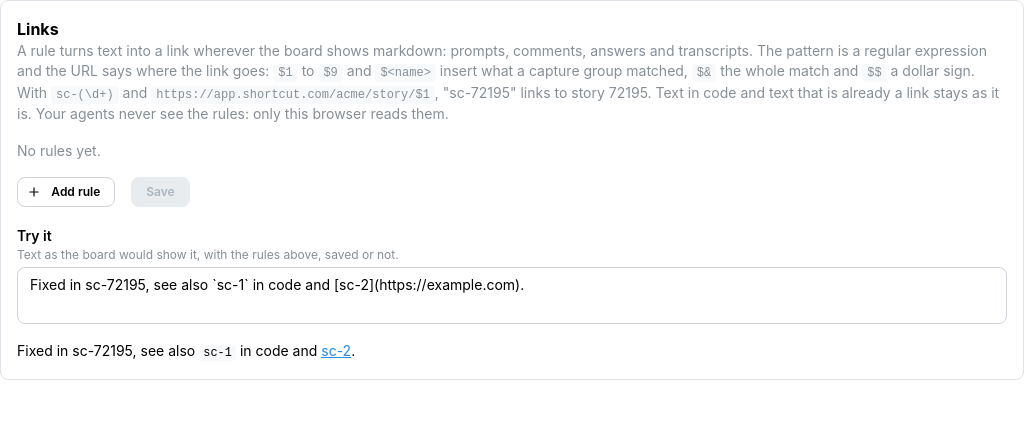
Test case: LinksSettings › says what is wrong with a pattern or URL and does not save it
Click the button "Add rule" at (66, 192), box [17,177,115,207]
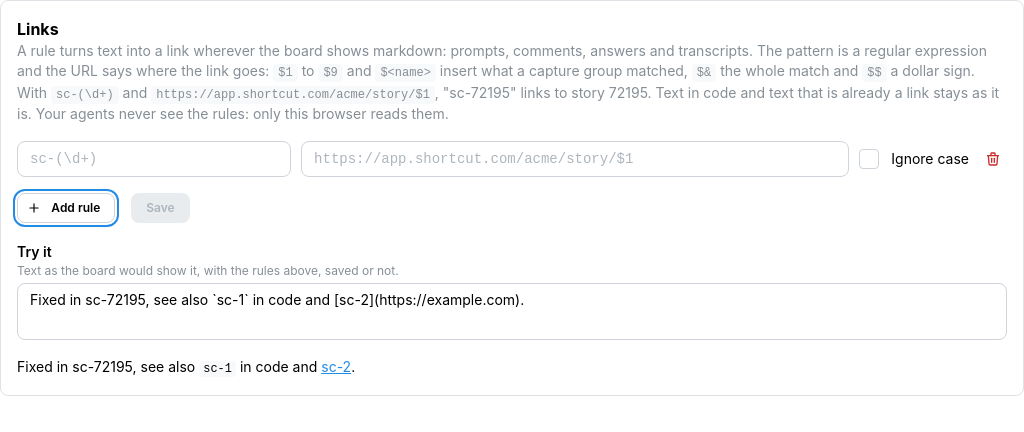
Type "(" into the field named "Pattern of rule 1" at (154, 159), box [17,141,291,177]
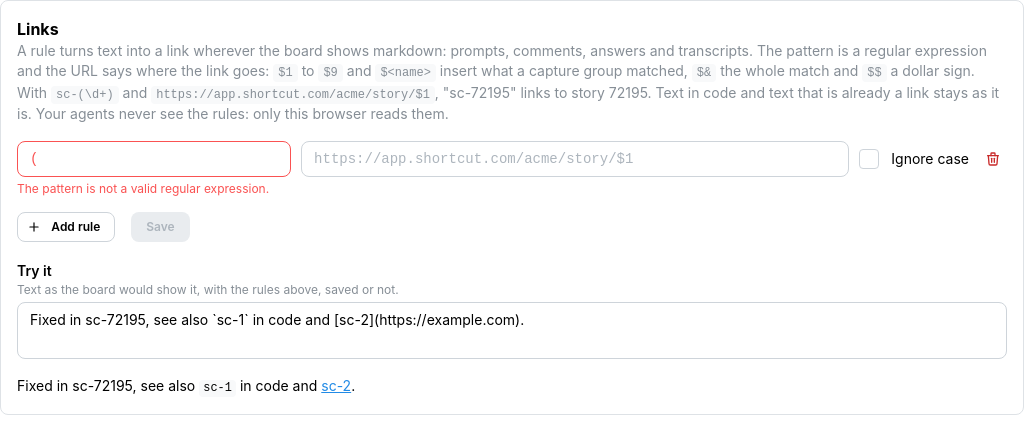
Type "javascript:alert(1)" into the field named "URL of rule 1" at (575, 159), box [301,141,849,177]
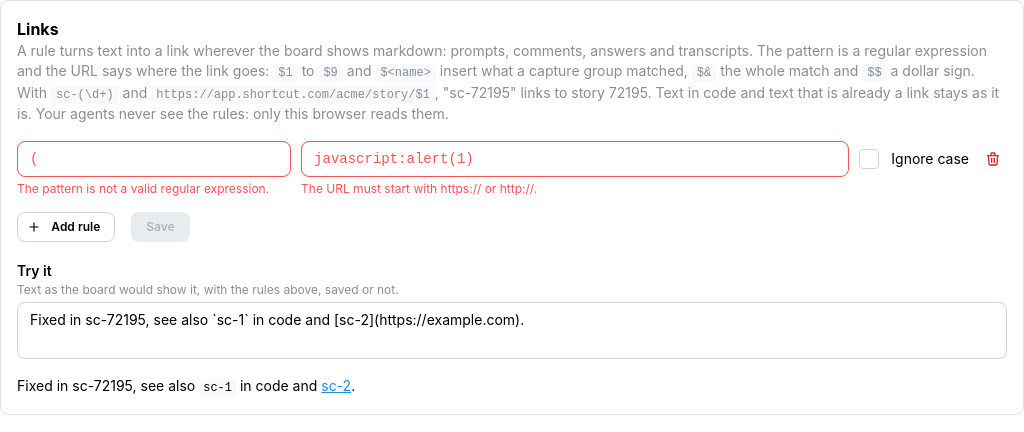
Expected: the button "Save" is disabled, [131,212,190,242]
Expected: the text "The pattern is not a valid regular expression." is shown, [17,182,291,196]
Expected: the text "The URL must start with https:// or http://." is shown, [301,181,537,196]
